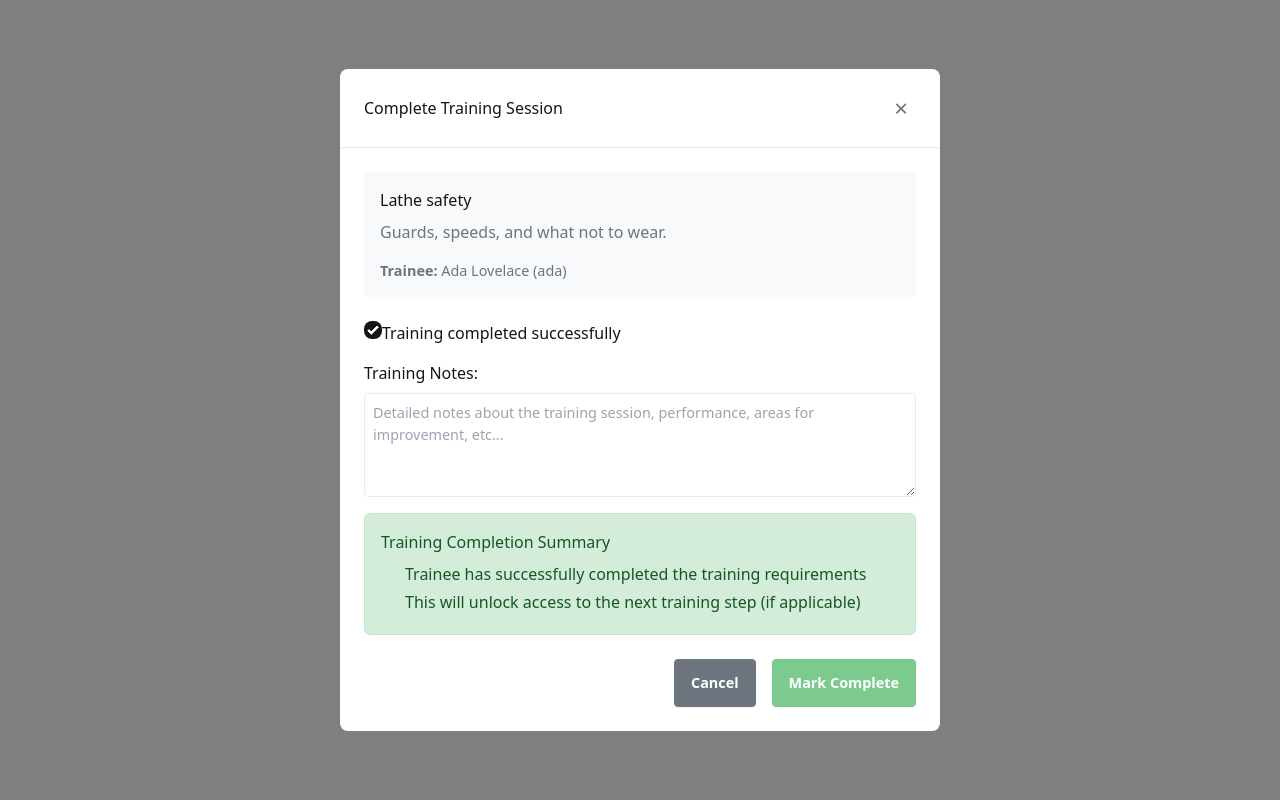
Test: against the step the server actually sends › needs only notes to submit
Expected: the submit button is disabled, [772,660,916,708]
Replace the text in the text box with id "notes" with "Confident on the guard interlock." at (640, 445), box [364,393,916,497]
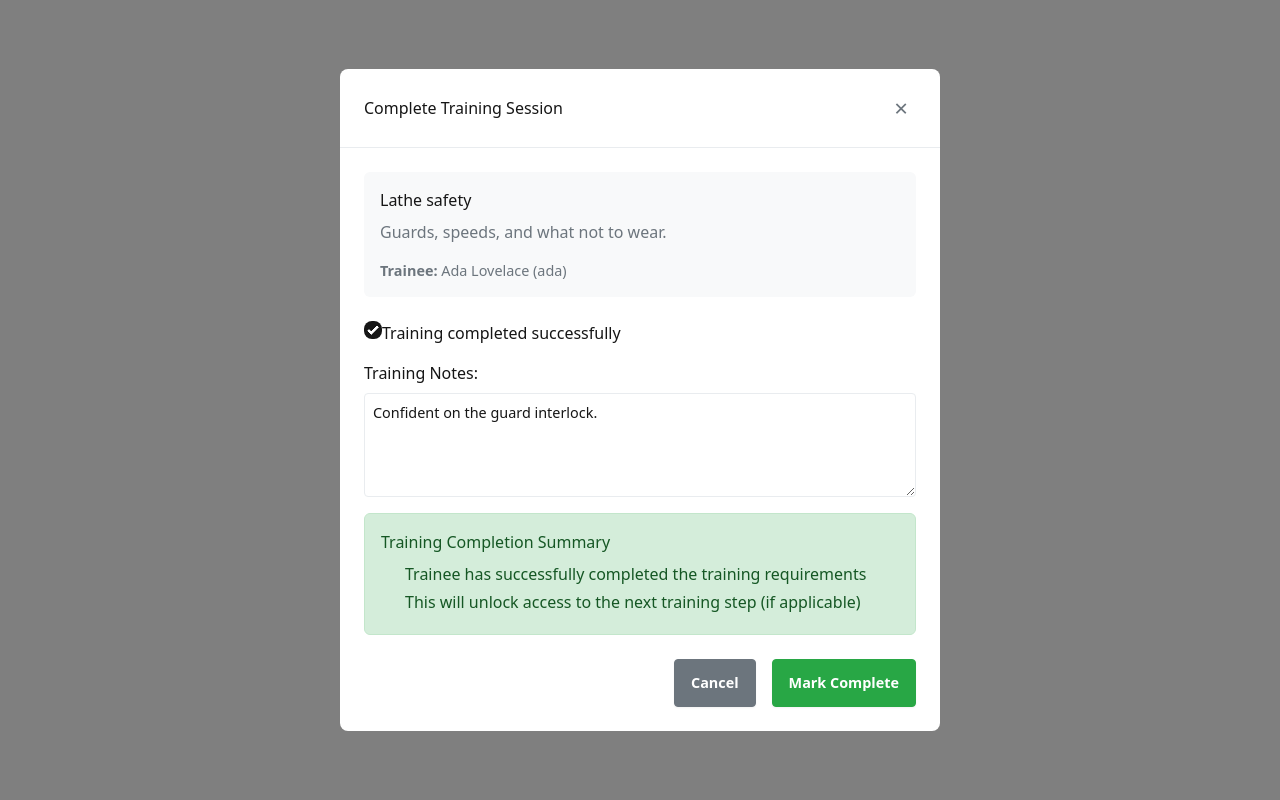
Result: the submit button is enabled at [772,660,916,708]
